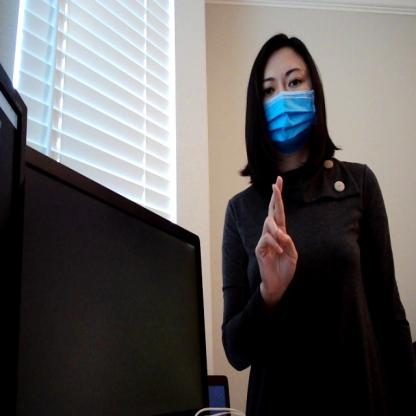right: (255, 172, 298, 302)
